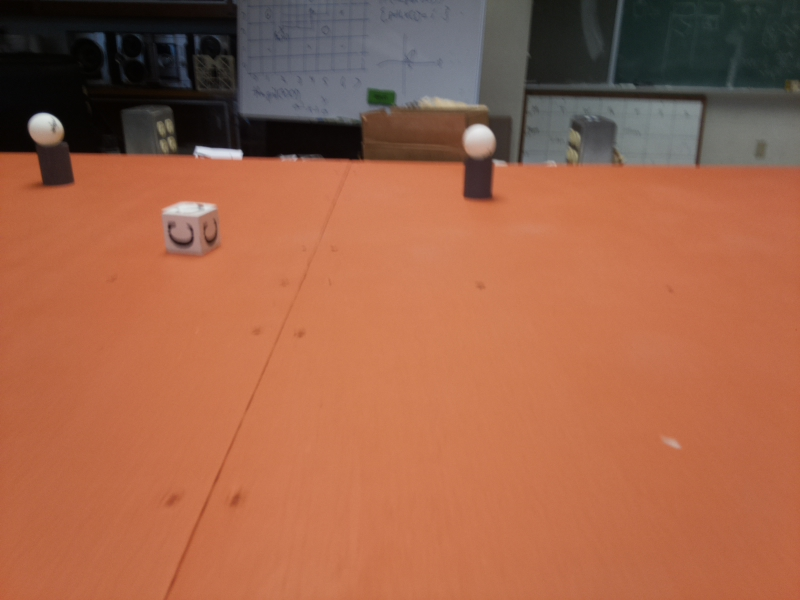blockC: (155, 197, 223, 261)
obstacle: (29, 110, 68, 200), (462, 116, 498, 202)
